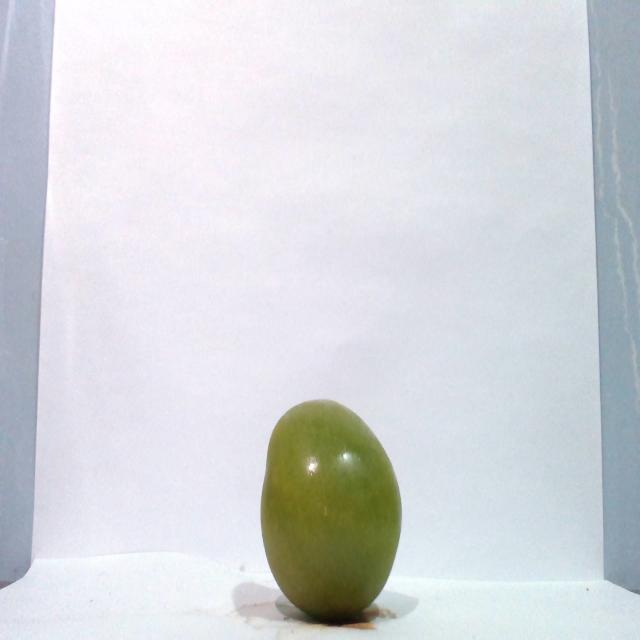Red: (258, 397, 403, 622)
